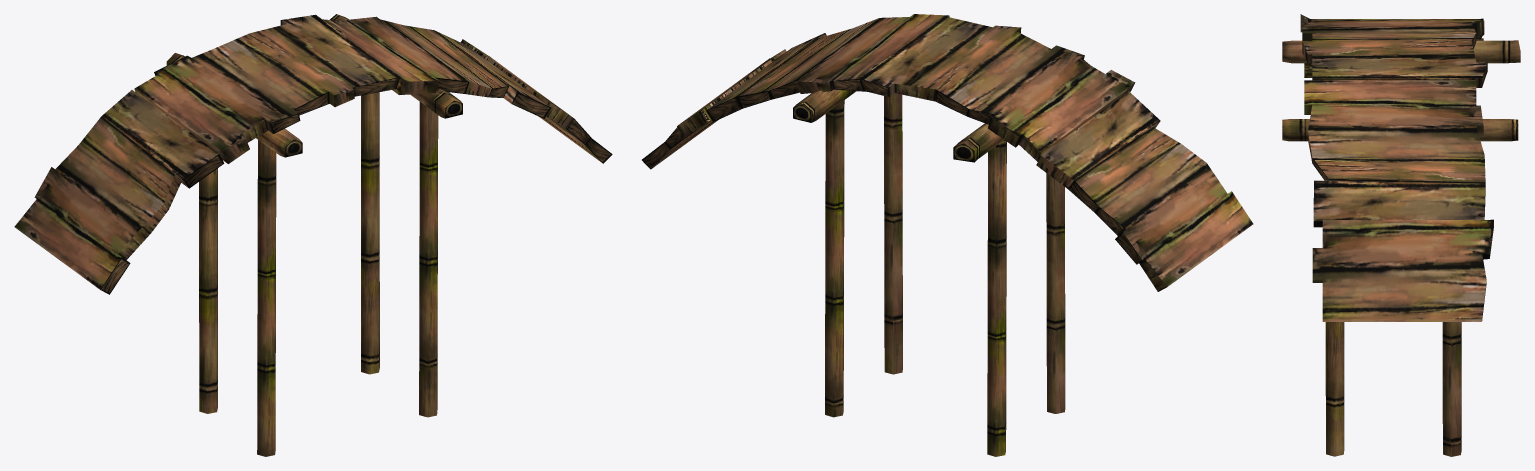
File: STR_BridgeWoodB.FBX
The picture shows the model from 3 angles, left to right: view 1: azimuth 30°, elevation 25°; view 2: azimuth 150°, elevation 25°; view 3: azimuth 270°, elevation 25°; orthographic projection.
Parts seen in each view (by area): view 1: STR_BridgewoodB; view 2: STR_BridgewoodB; view 3: STR_BridgewoodB.
Part boxes in pixels (box(x1,y1,x2,y2)): STR_BridgewoodB: box(14, 14, 612, 456); STR_BridgewoodB: box(642, 14, 1253, 456); STR_BridgewoodB: box(1282, 14, 1520, 456).
Bounding box in the file's own units: 1214 × 794 × 479.
